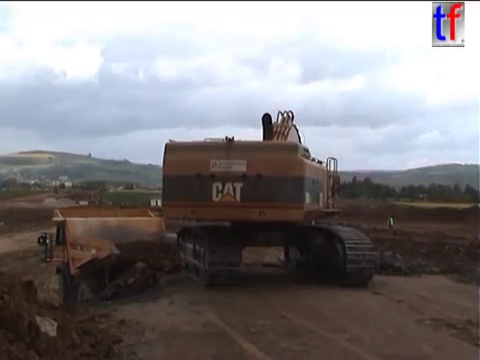excavator: (156, 107, 380, 289), (81, 191, 112, 210)
truck: (36, 205, 230, 314), (52, 185, 60, 196), (64, 187, 72, 195)
worker: (384, 212, 397, 235)
